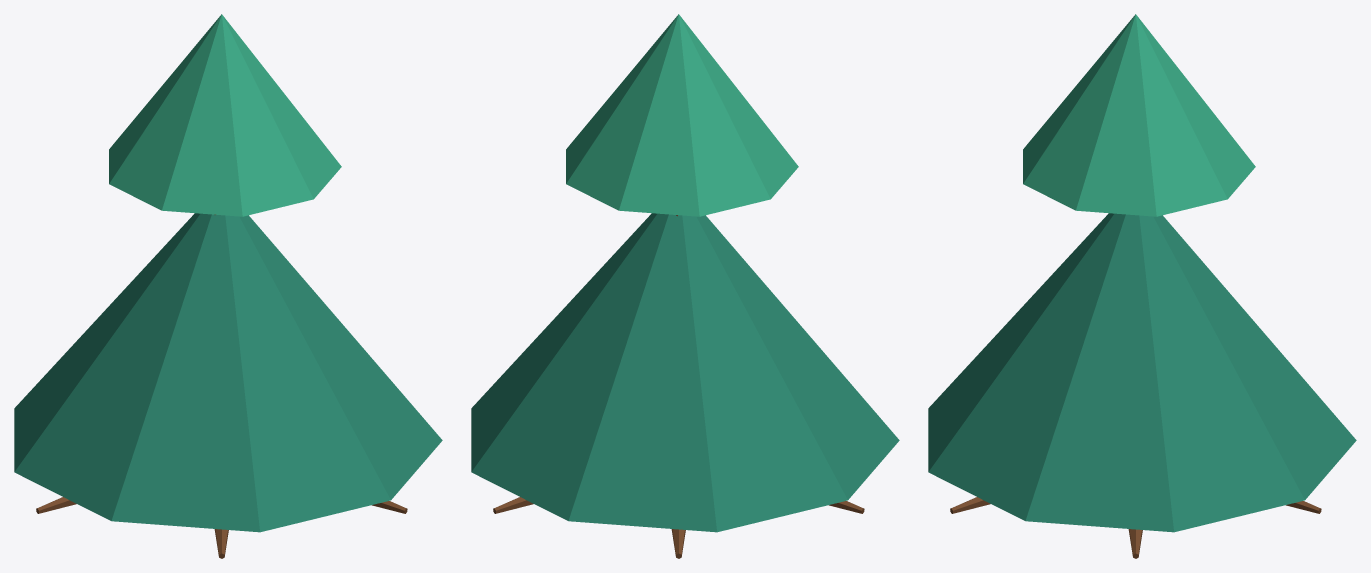
File: seedling.glb
3 views of the same model, side by side, from view 1: azimuth 30°, elevation 25°; view 2: azimuth 150°, elevation 25°; view 3: azimuth 270°, elevation 25° (orthographic).
Visible parts, largest first — view 1: Needle_Tier_01, Needle_Tier_02; view 2: Needle_Tier_01, Needle_Tier_02; view 3: Needle_Tier_01, Needle_Tier_02.
Part boxes in pixels (box(x1,y1,x2,y2)): Needle_Tier_01: box(14, 213, 442, 532); Needle_Tier_02: box(109, 14, 341, 216); Needle_Tier_01: box(471, 213, 899, 532); Needle_Tier_02: box(566, 14, 798, 216); Needle_Tier_01: box(928, 213, 1356, 532); Needle_Tier_02: box(1023, 14, 1255, 216).
Size of the model in its own units: 1.6 by 1.85 by 1.58.
